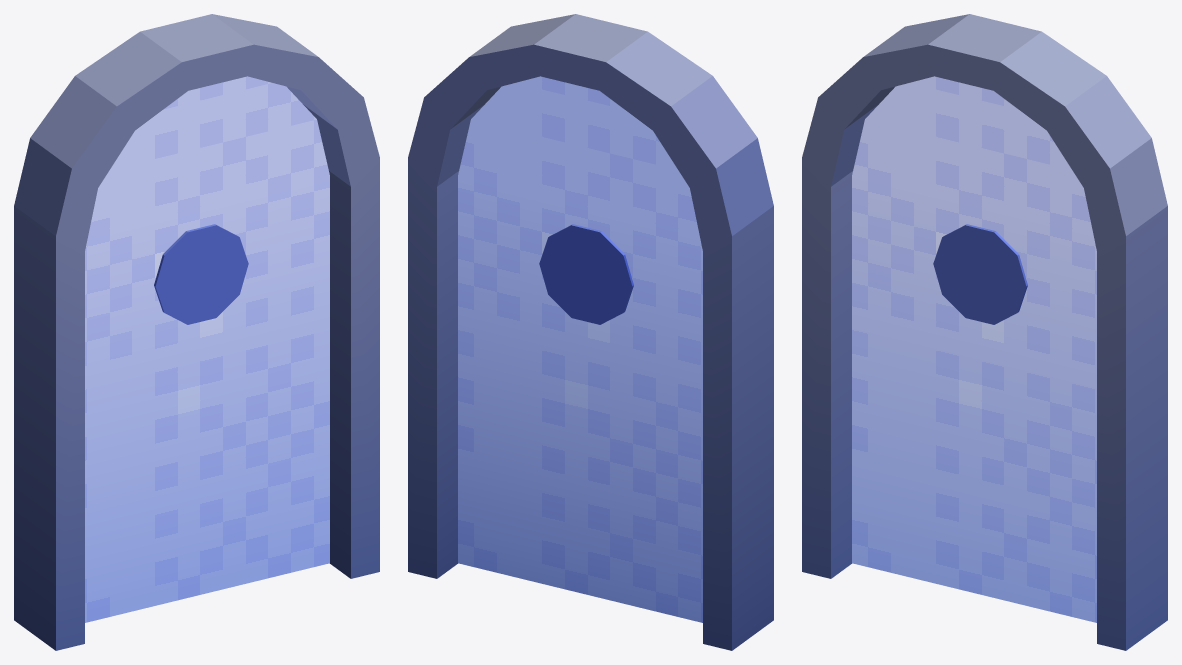
File: door_main.glb
3 views of the same model, side by side, from view 1: azimuth 30°, elevation 25°; view 2: azimuth 150°, elevation 25°; view 3: azimuth 330°, elevation 25° (orthographic).
Parts seen in each view (by area): view 1: kit_door_leaf, kit_door_frame; view 2: kit_door_leaf, kit_door_frame; view 3: kit_door_leaf, kit_door_frame.
Boxes of the visible parts, box(x1,y1,x2,y2) form: kit_door_leaf: box(85, 76, 329, 622); kit_door_frame: box(14, 14, 379, 650); kit_door_leaf: box(458, 76, 702, 622); kit_door_frame: box(408, 14, 773, 650); kit_door_leaf: box(852, 76, 1096, 622); kit_door_frame: box(802, 14, 1167, 650).
Size of the model in its own units: 1.34 by 2.21 by 0.3.
Materials: 3 (1 with a texture image).
